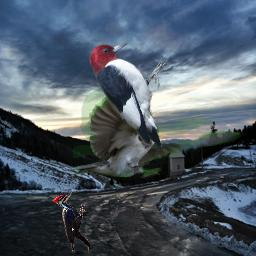Swallow: (73, 89, 241, 178)
Woodpecker: (89, 42, 169, 147), (52, 191, 92, 253)
